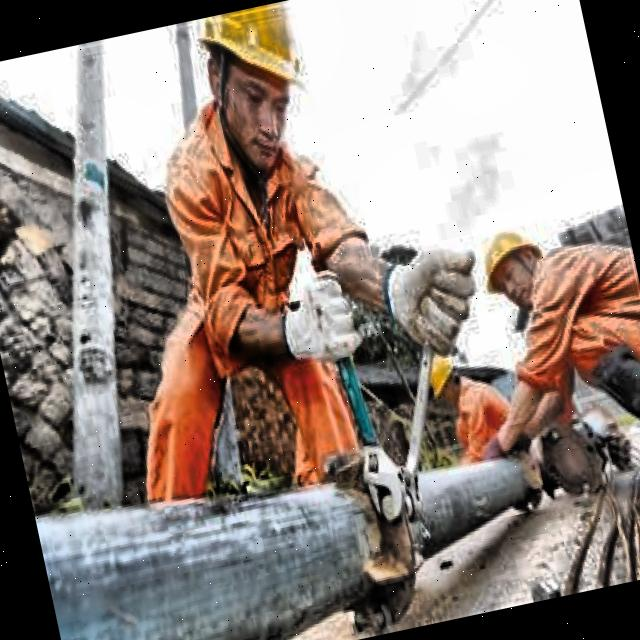helmet: (180, 0, 335, 196), (465, 210, 559, 322), (416, 344, 470, 406)
